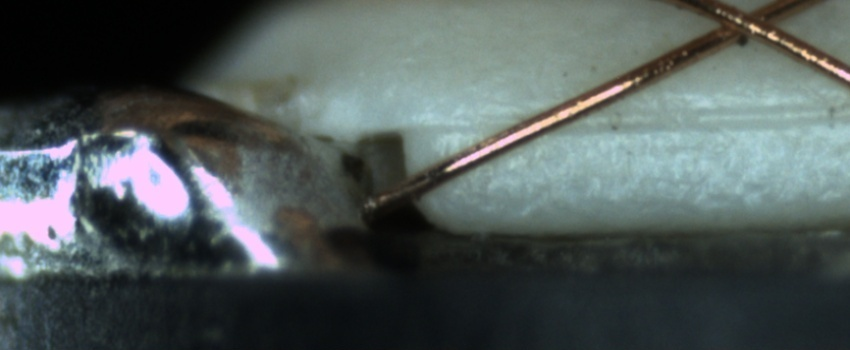CL: (700, 0, 796, 49)
DL: (419, 87, 849, 156)
